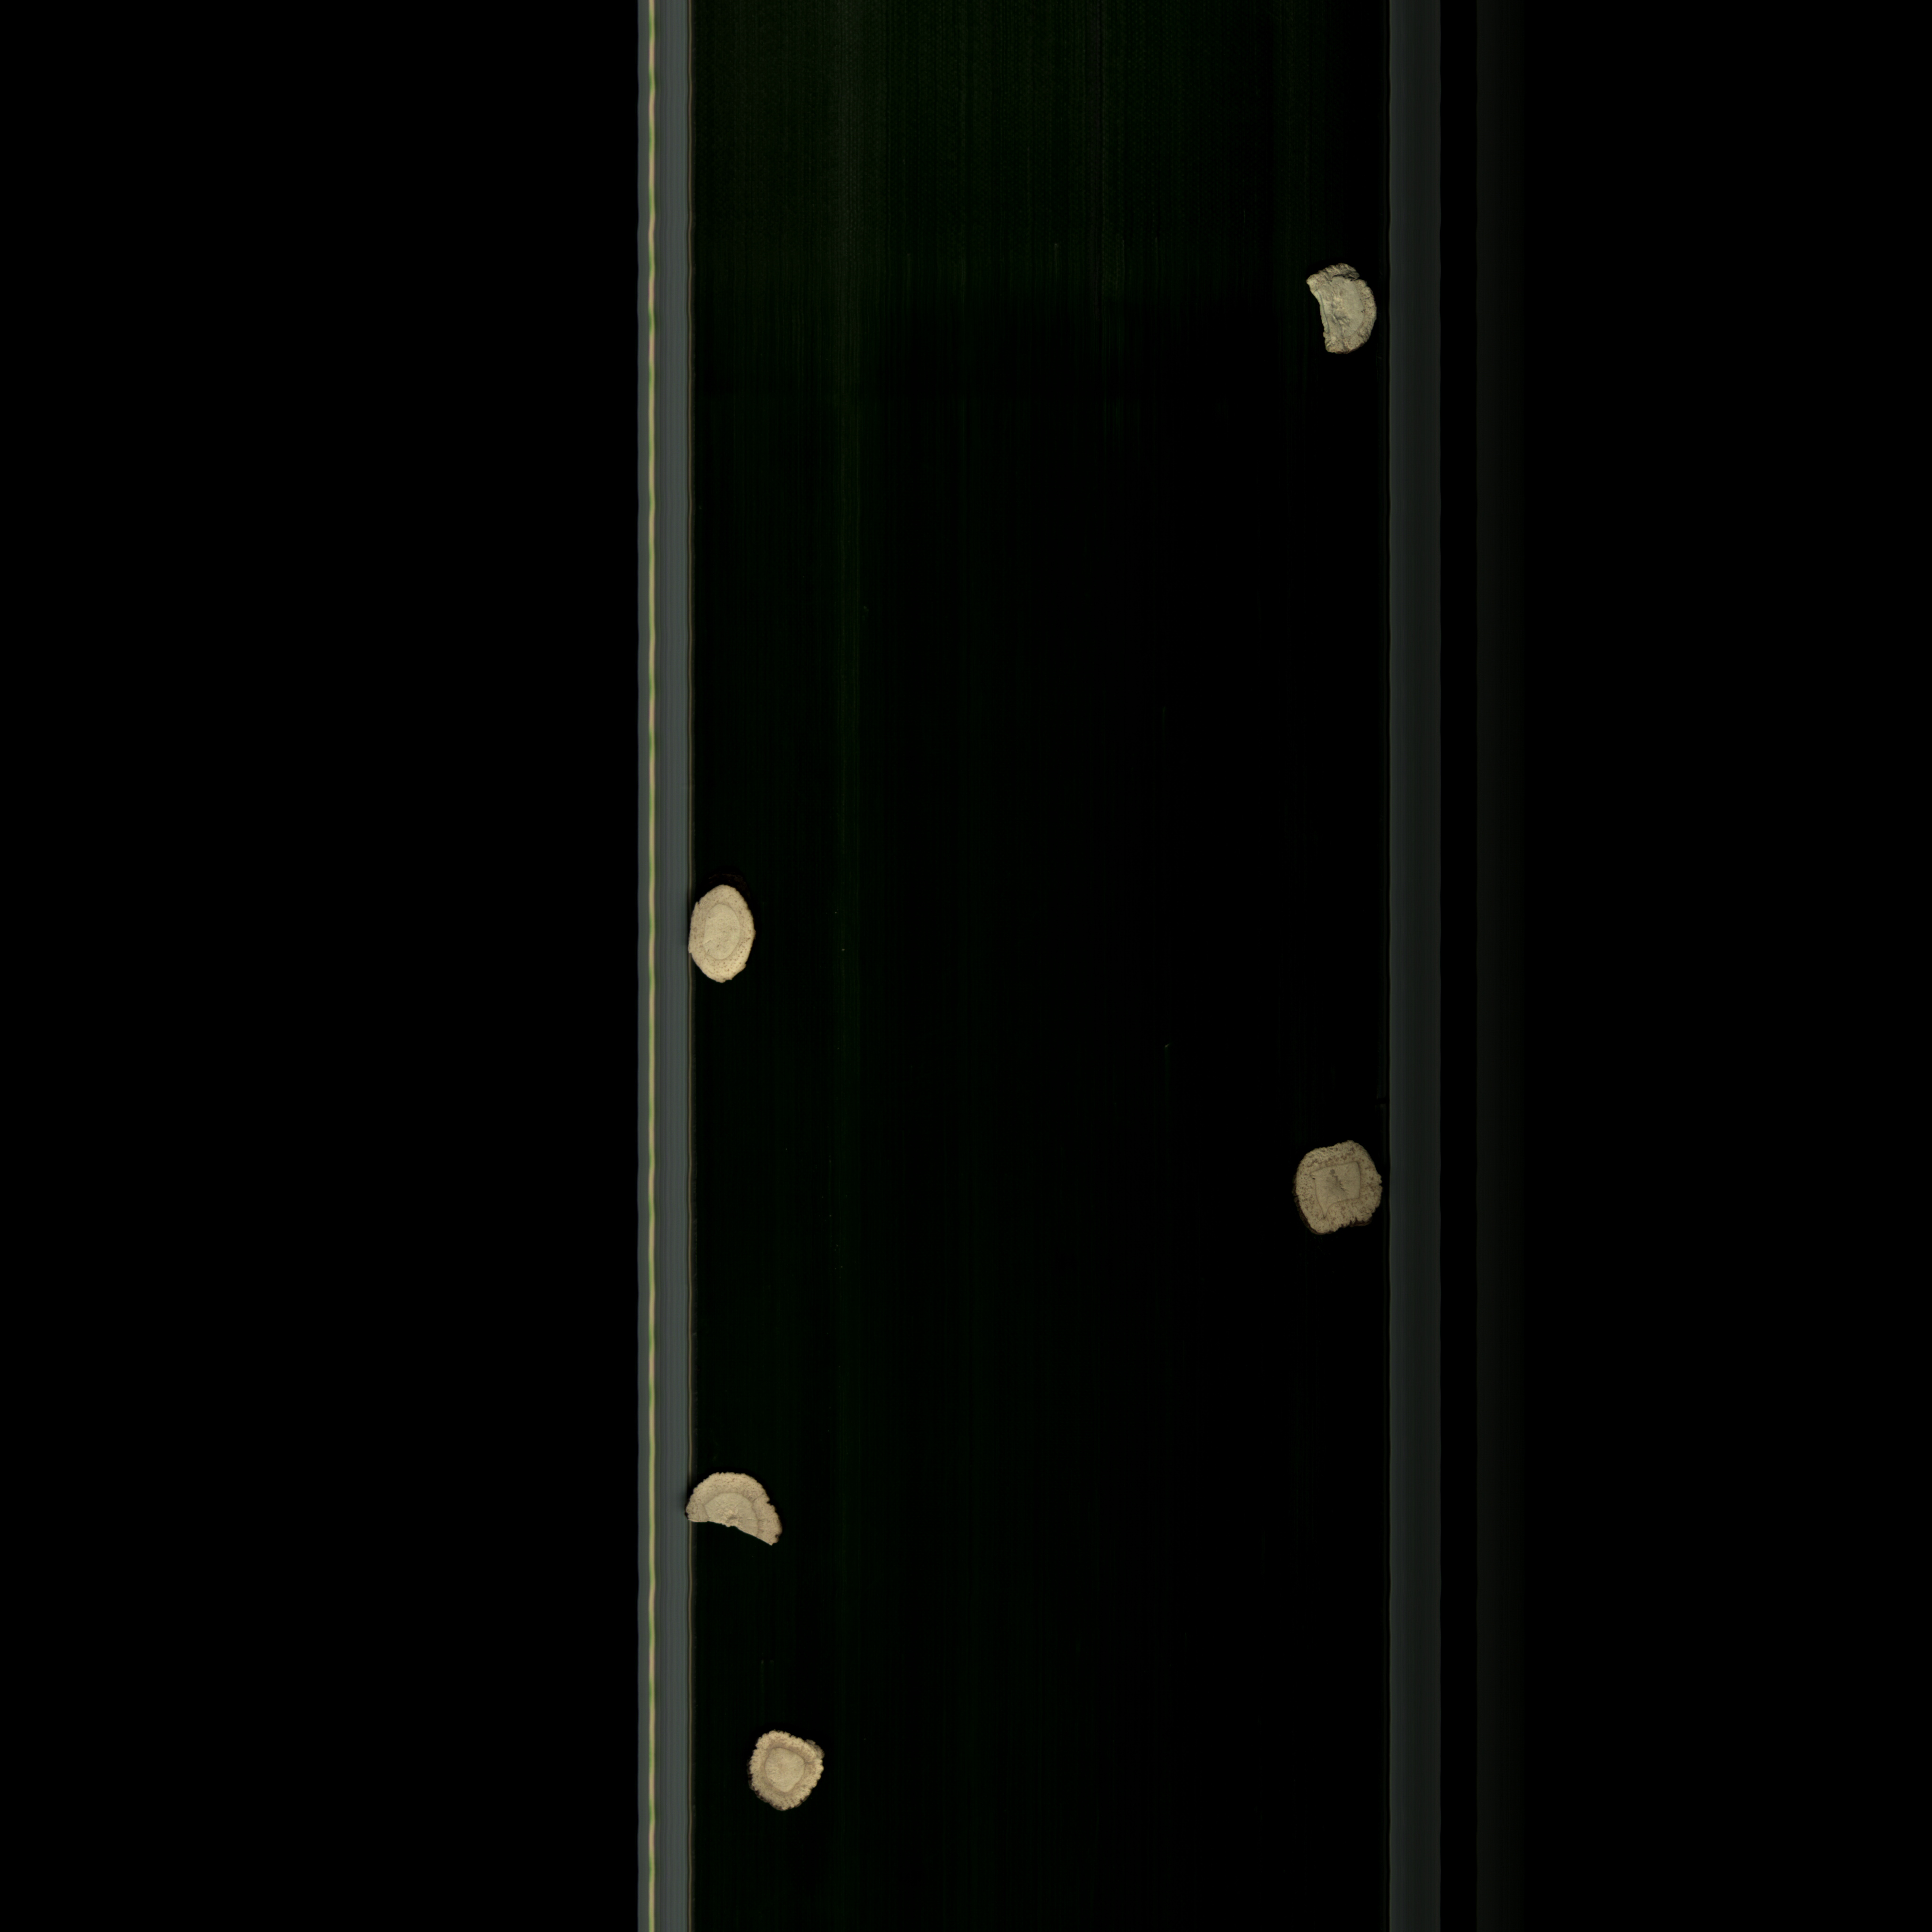debris: (1297, 255, 1382, 372), (683, 1467, 793, 1555)
distortion: (736, 1718, 835, 1828)
moldy: (1279, 1136, 1391, 1246)
